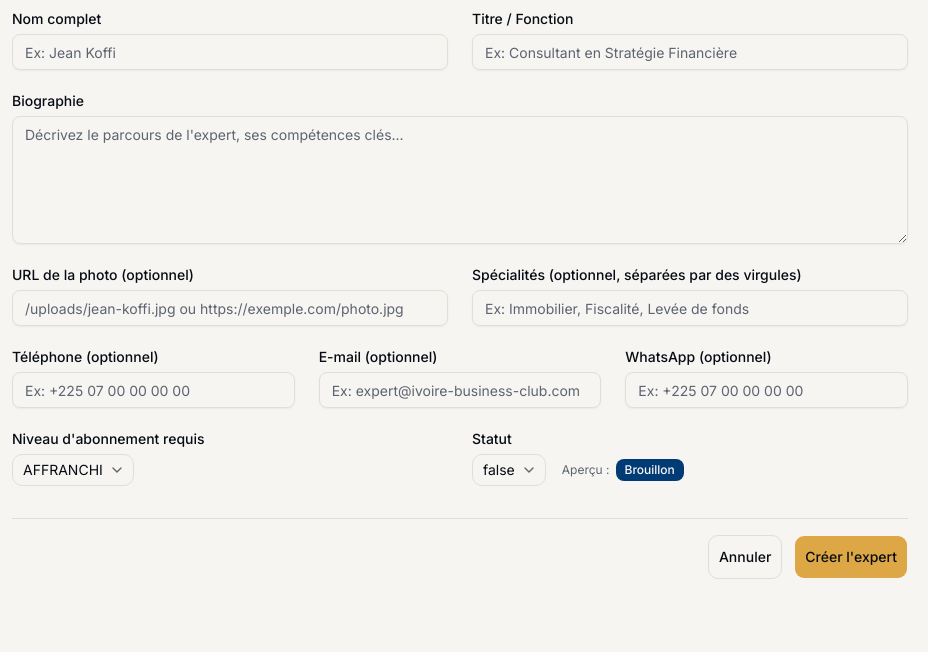
Test: ExpertForm Component › shows validation errors for invalid inputs
In the field with test id "expert-name-input": (230, 52) left=12, top=34, right=448, bottom=70, type "a"
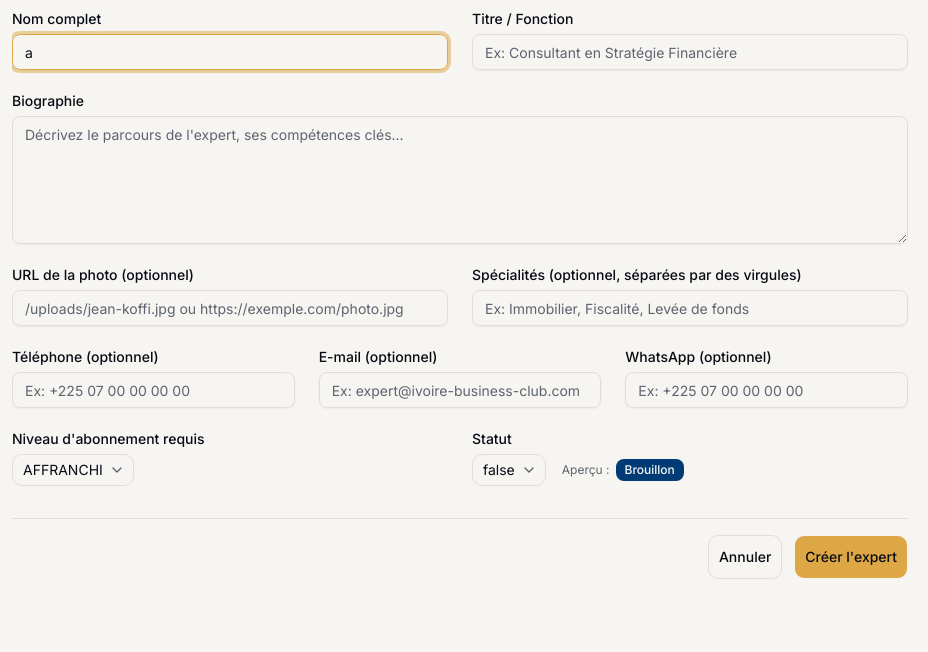
In the field with test id "expert-title-input": (690, 52) left=472, top=34, right=908, bottom=70, type "x"
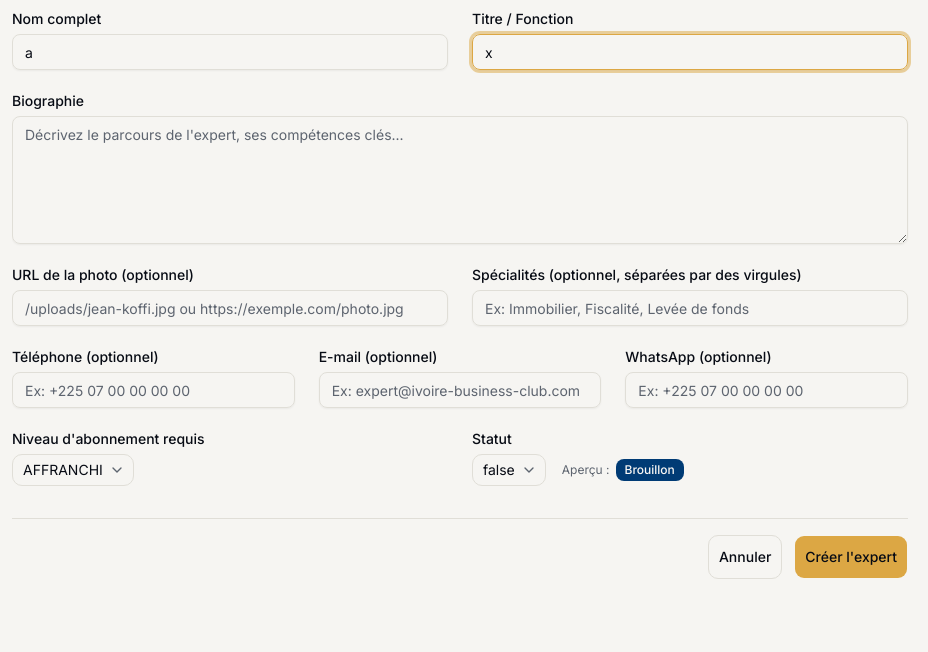
In the text box with test id "expert-bio-input": (460, 180) left=12, top=116, right=908, bottom=244, type "short"
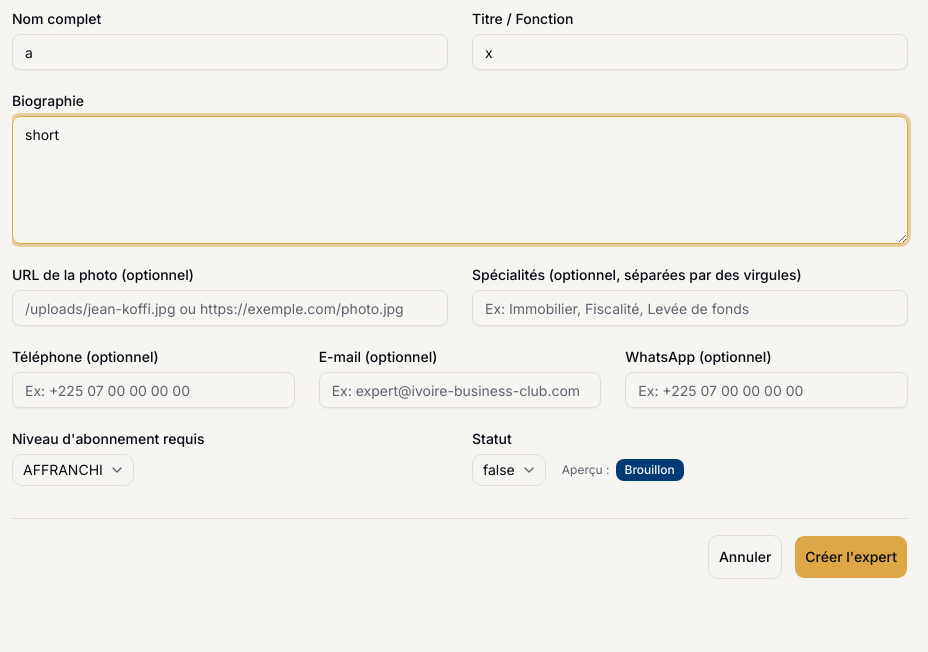
Click the button with test id "expert-submit-button": (851, 557) left=794, top=535, right=908, bottom=579
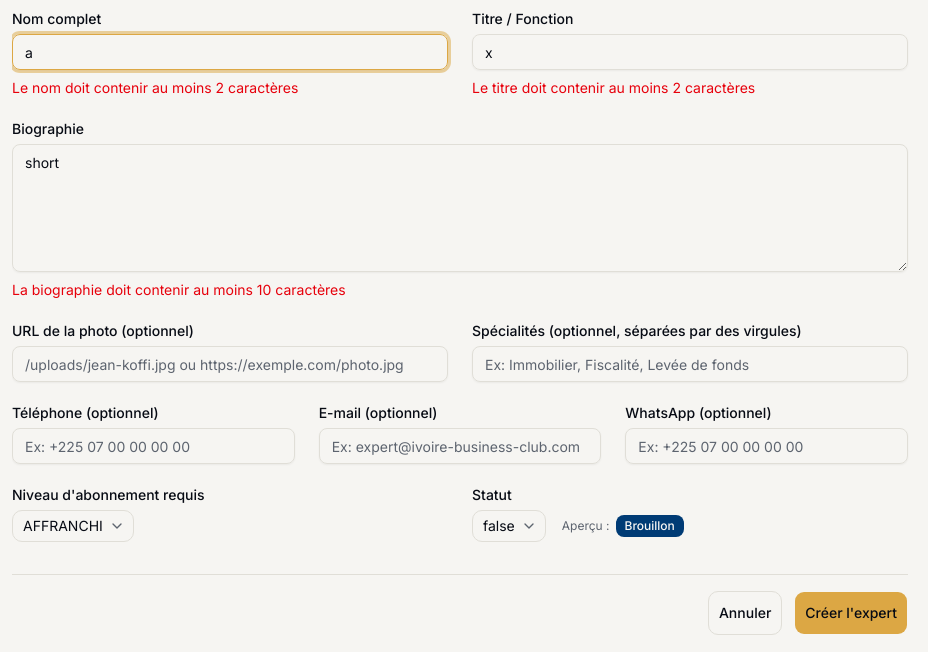
Now the text "Le nom doit contenir au moins 2 caractères" is shown, box left=12, top=79, right=298, bottom=96
Now the text "Le titre doit contenir au moins 2 caractères" is shown, box left=472, top=79, right=755, bottom=96
Now the text "La biographie doit contenir au moins 10 caractères" is shown, box left=12, top=281, right=346, bottom=298
